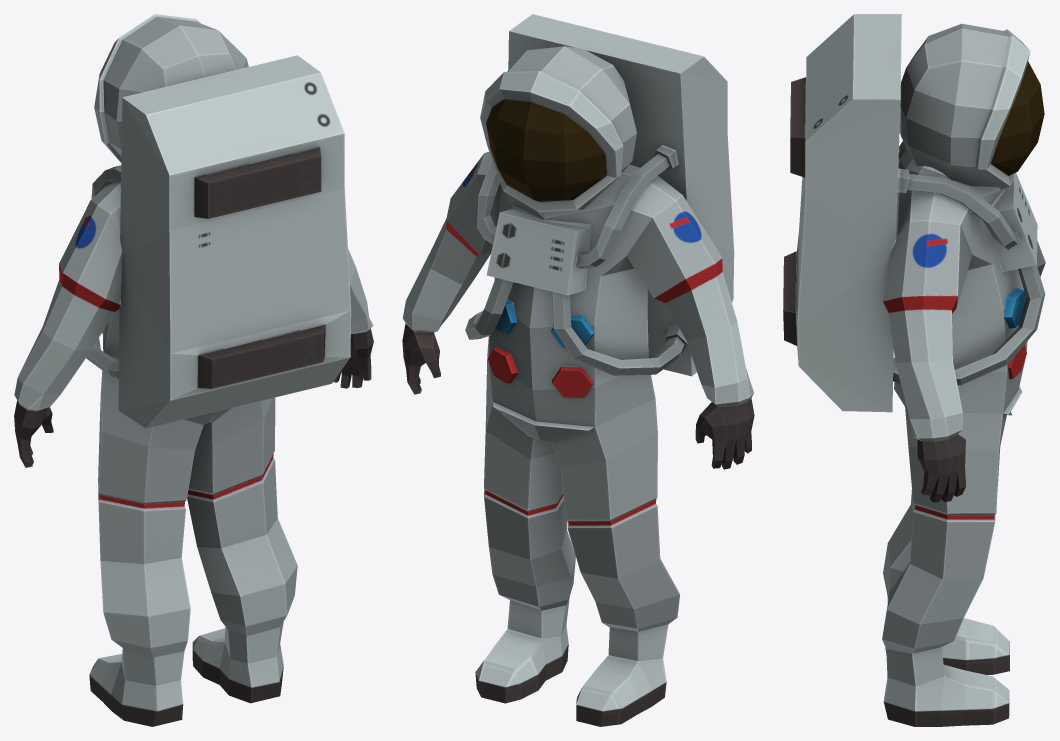
The model's file is VoidPlayer.glb.
The picture shows the model from 3 angles, left to right: view 1: azimuth 30°, elevation 25°; view 2: azimuth 150°, elevation 25°; view 3: azimuth 270°, elevation 25°; orthographic projection.
Visible parts, largest first — view 1: Astronaut; view 2: Astronaut; view 3: Astronaut.
Boxes of the visible parts, x1,y1,x2,y2 form: Astronaut: (14, 14, 373, 726); Astronaut: (402, 14, 754, 726); Astronaut: (783, 14, 1045, 726).
Size of the model in its own units: 2.24 by 4.02 by 1.45.
Materials: 1 (1 with a texture image).
